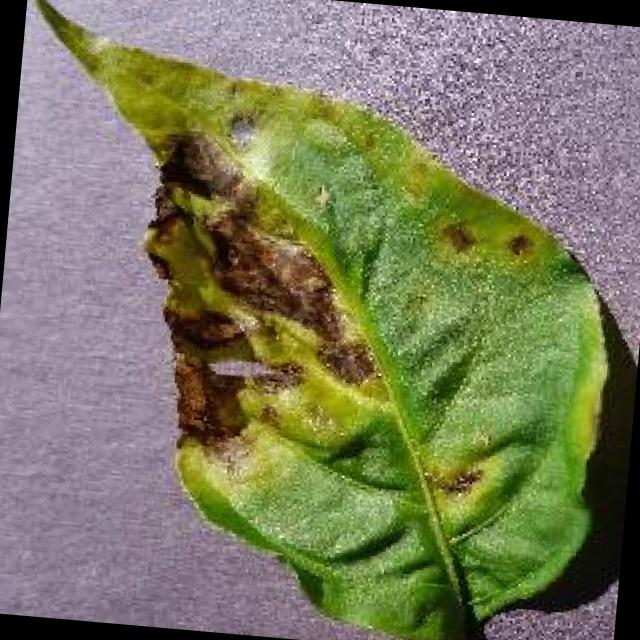Chilli_Bacterial_Spot: (0, 0, 640, 640), (122, 130, 400, 460), (150, 123, 246, 203), (426, 212, 542, 272), (433, 214, 482, 260), (220, 106, 261, 154), (440, 458, 486, 499), (498, 228, 536, 264)
